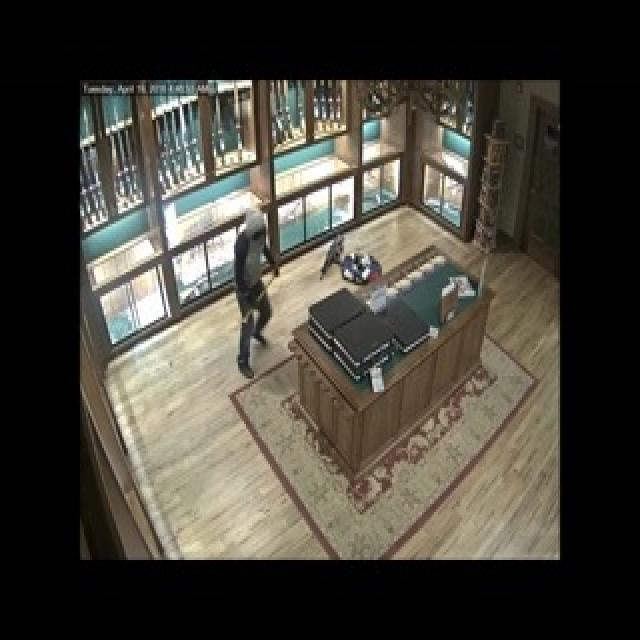thief: (224, 216, 291, 368)
